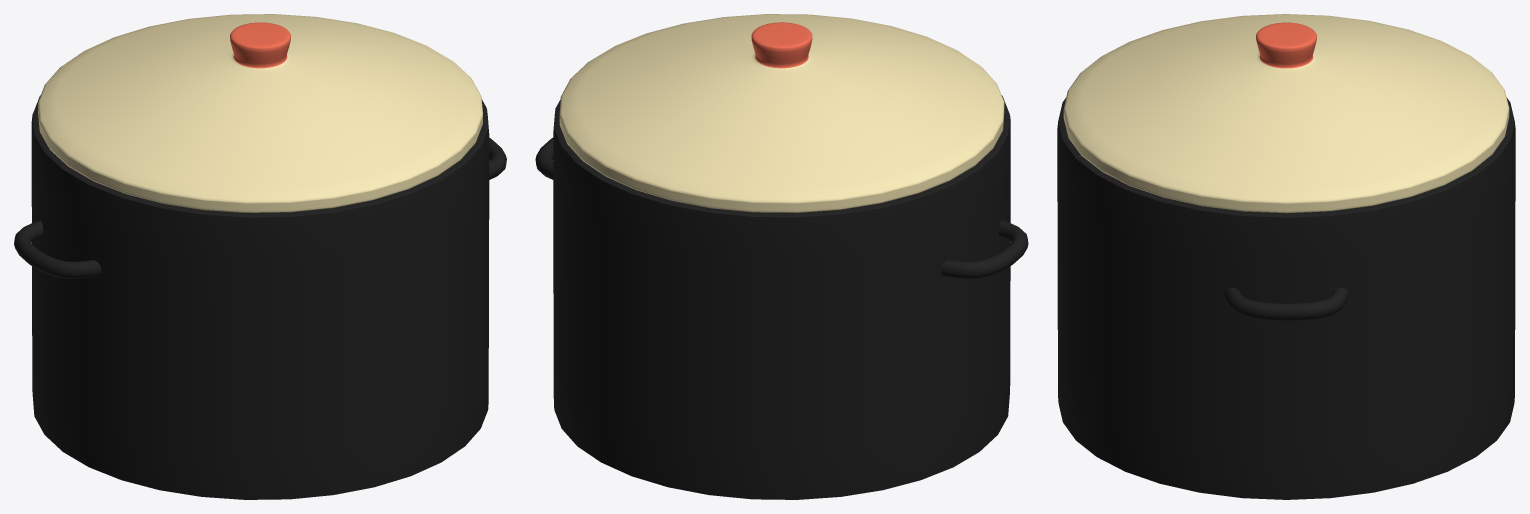
File: HP_pot1.glb
3 renders of one model, left to right at view 1: azimuth 30°, elevation 25°; view 2: azimuth 150°, elevation 25°; view 3: azimuth 270°, elevation 25°, orthographic.
Visible parts, largest first — view 1: HP_pot1.001, HP_pot1_lid.001; view 2: HP_pot1.001, HP_pot1_lid.001; view 3: HP_pot1.001, HP_pot1_lid.001.
Part boxes in pixels (bbox=[...]): HP_pot1.001: bbox=[14, 95, 506, 499]; HP_pot1_lid.001: bbox=[38, 14, 482, 212]; HP_pot1.001: bbox=[535, 95, 1028, 499]; HP_pot1_lid.001: bbox=[559, 14, 1004, 212]; HP_pot1.001: bbox=[1057, 97, 1515, 499]; HP_pot1_lid.001: bbox=[1063, 14, 1509, 213].
Size of the model in its own units: 0.4263 by 0.3218 by 0.3615.
1 material, 1 textured.
